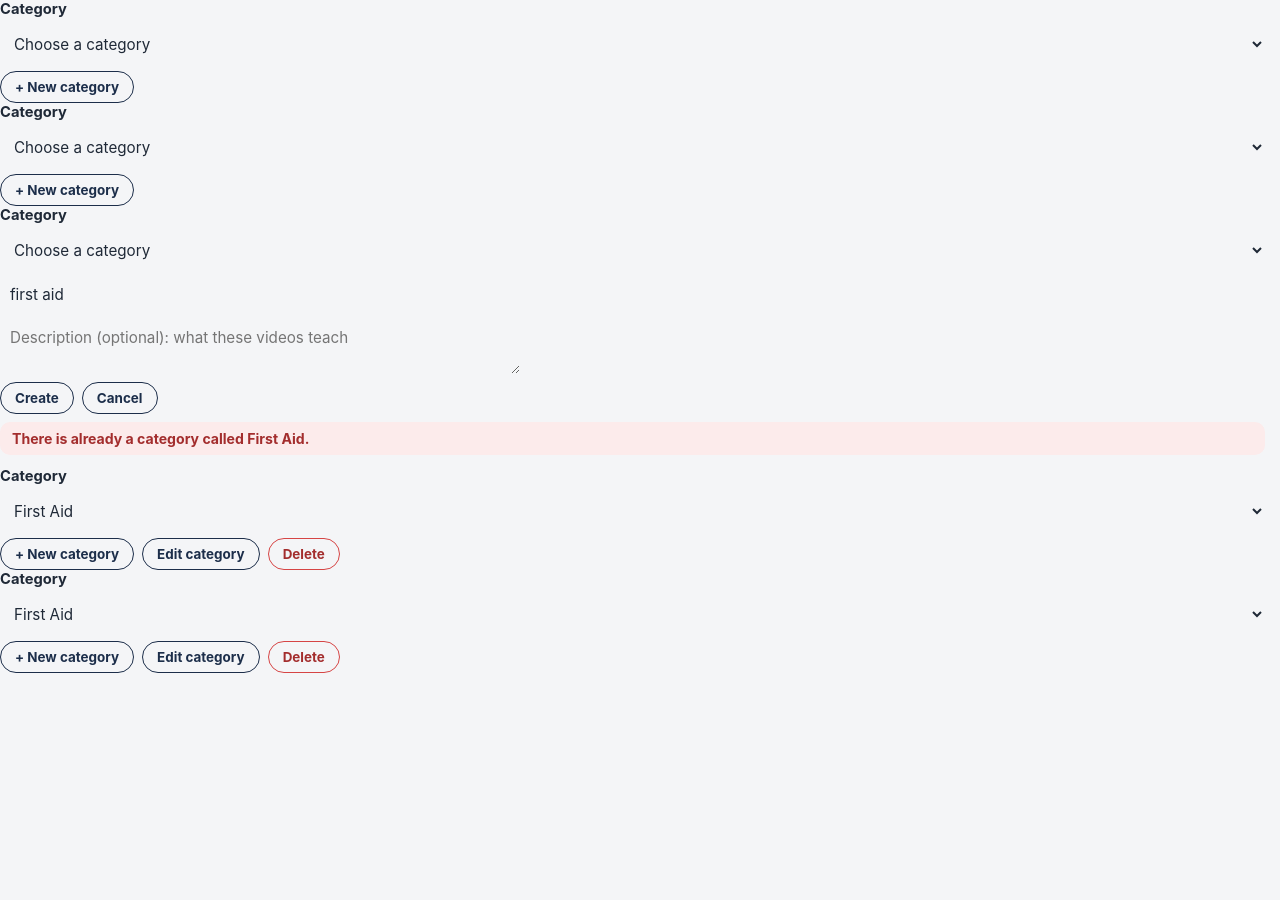
a category with videos can be deleted, after the warning
Later steps or results of the test are not shown.
Step 1. Click the 2nd button "Delete" → (304, 657), box [268,641,340,673]
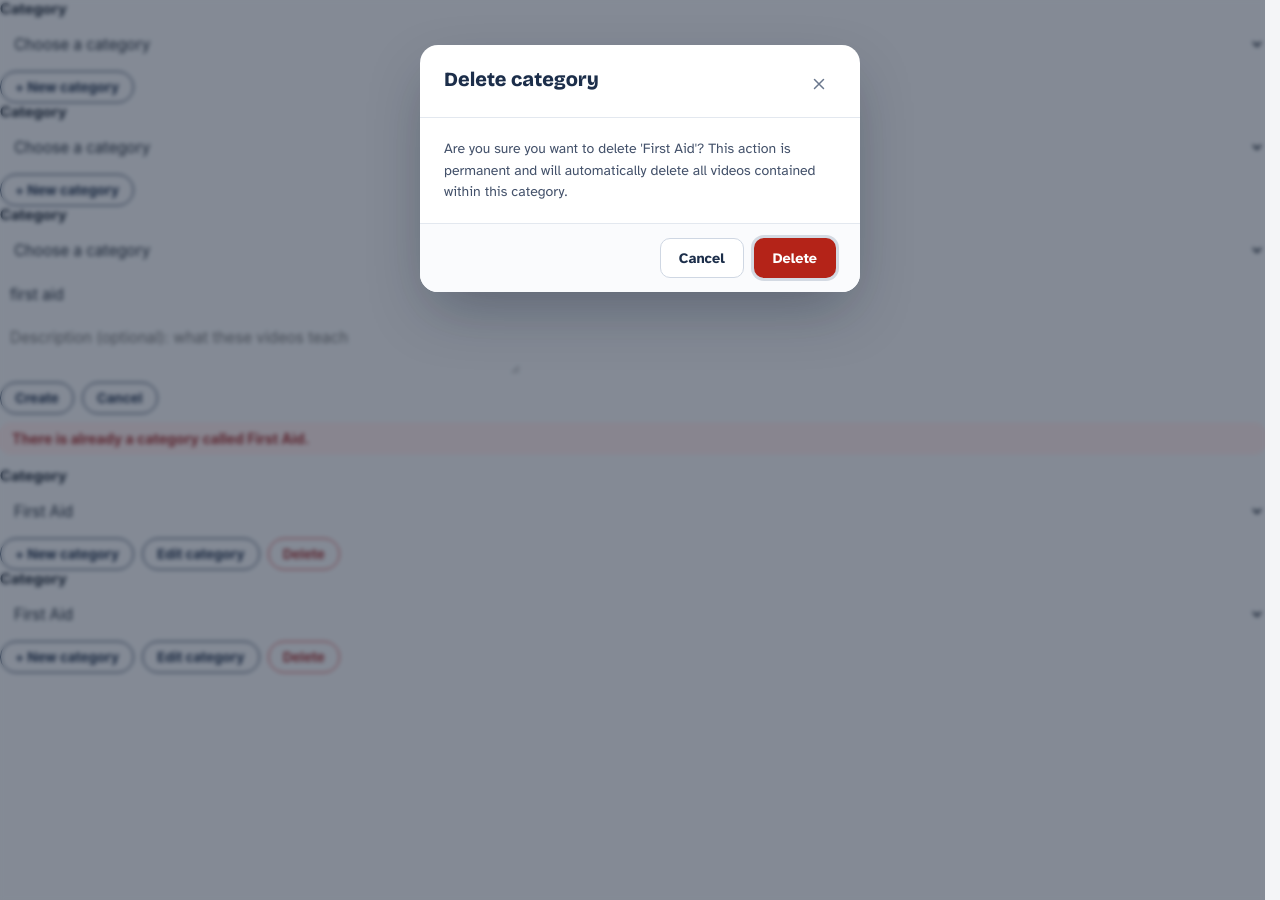
Result: the text with class "adm-confirm-text" shows "Are you sure you want to delete 'First Aid'? This action is permanent and will automatically delete all videos contained within this category." at [444,140,816,200]
Step 2. Click the button "Cancel" → (702, 258), box [660,238,744,278]
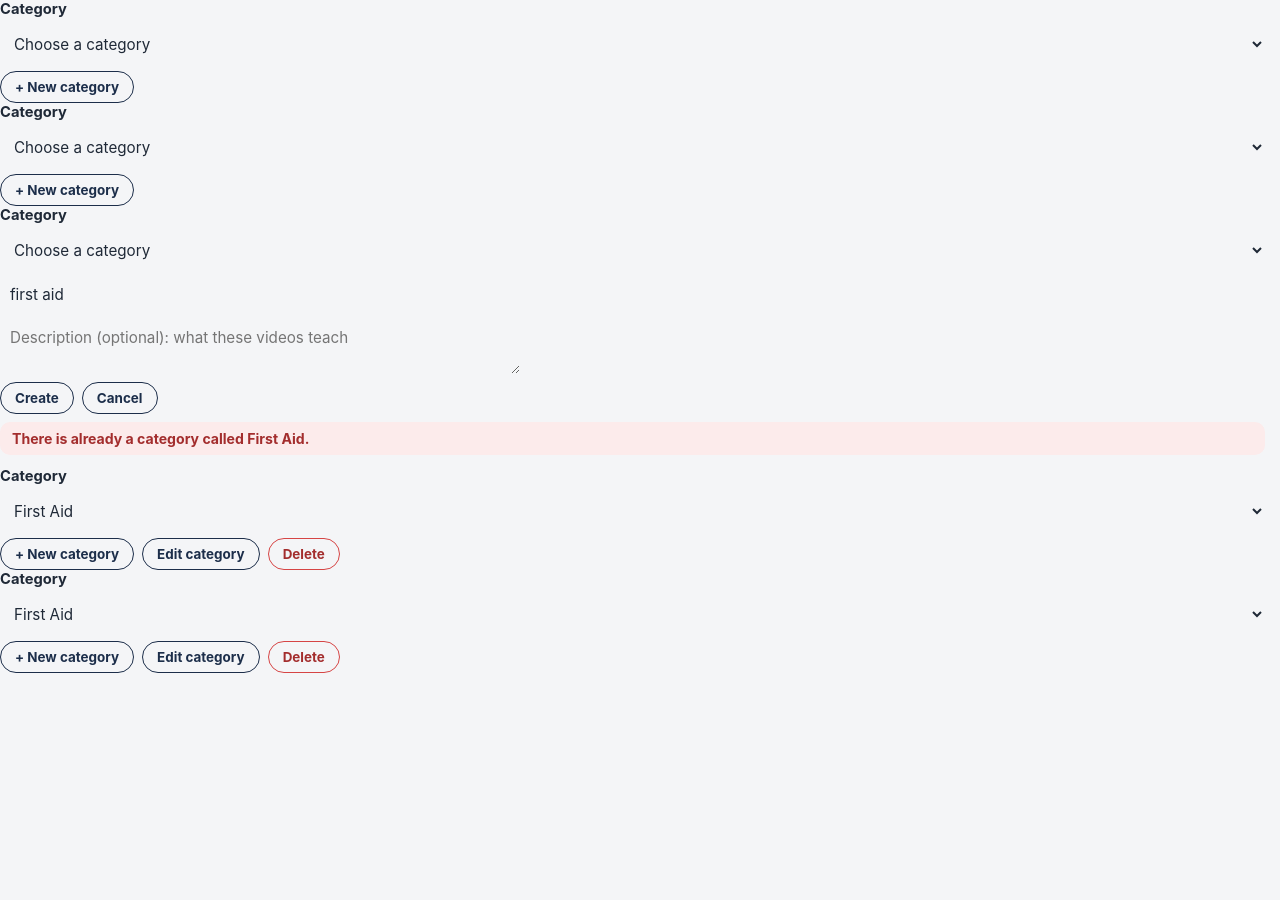
Result: the dialog is gone
